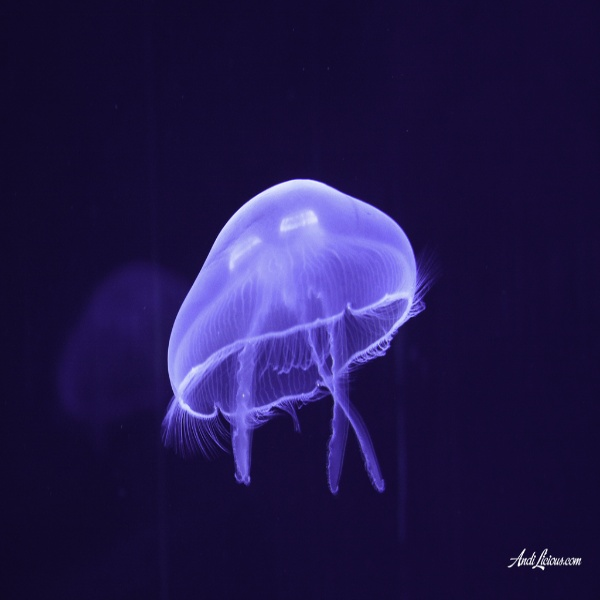Jellyfish: (159, 178, 440, 496)
